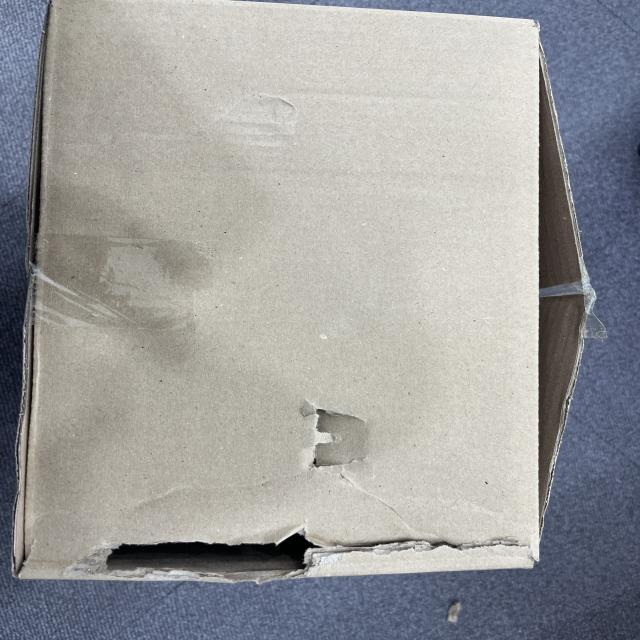hole: (85, 535, 537, 583), (288, 399, 366, 475)
